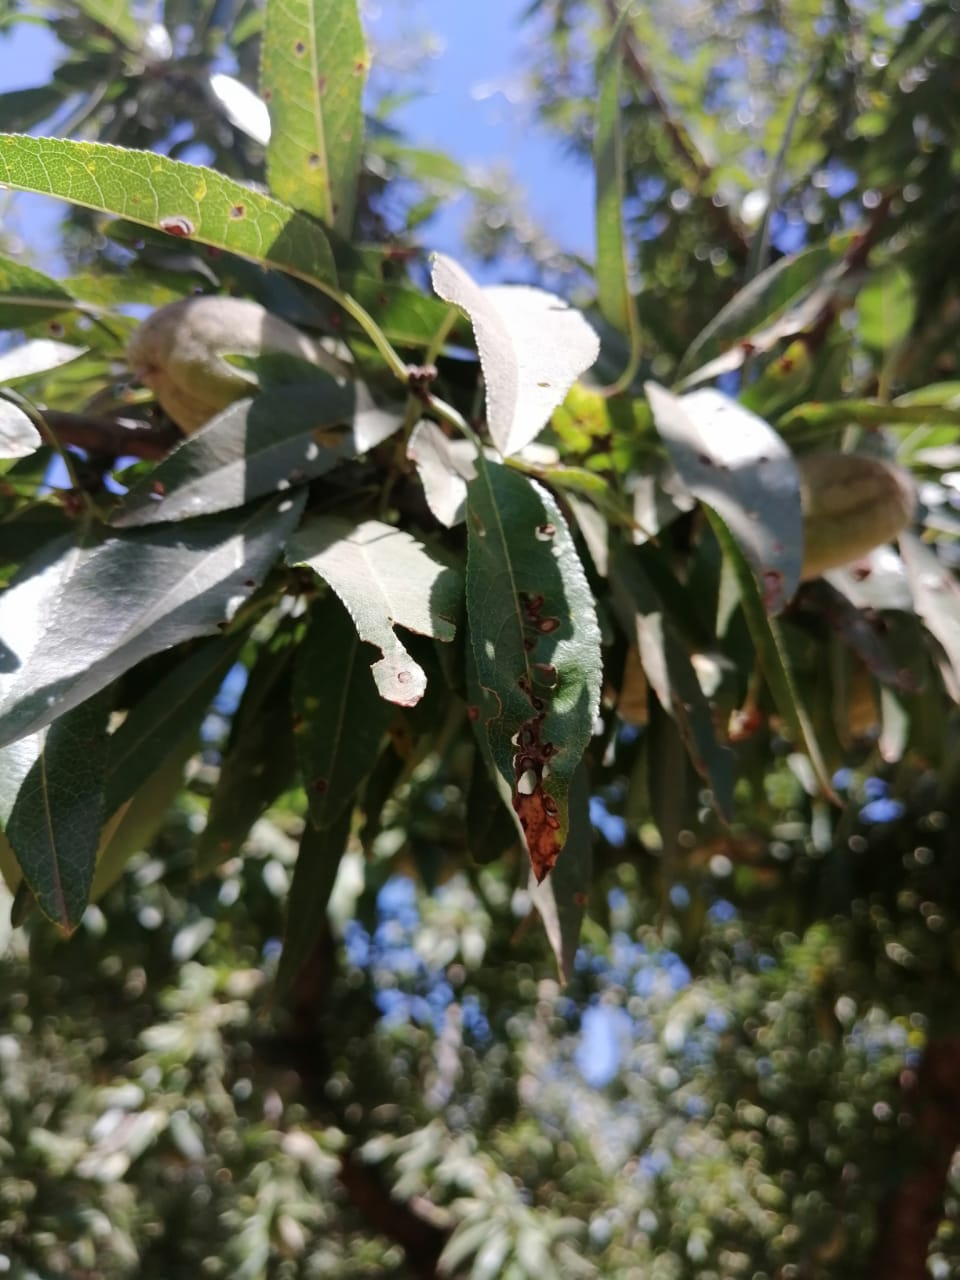coryneum: (467, 453, 605, 887), (1, 130, 345, 296)
